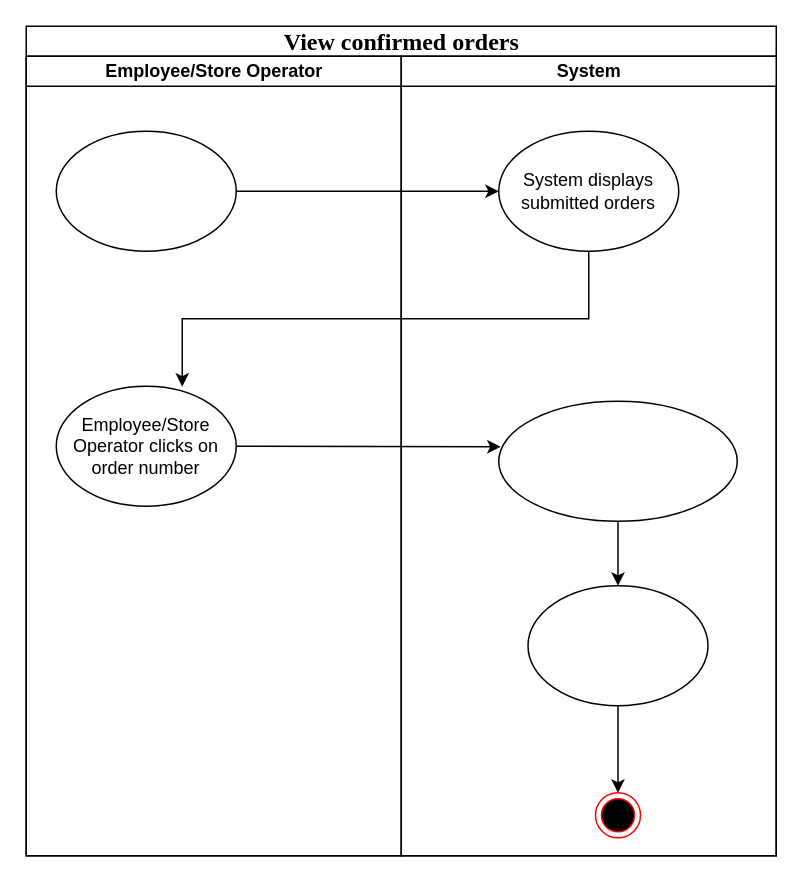
Image size: 803x882. Some labels were removed from this diagram. The shapes that lost their labels are listed below. From the top down, each one's centre as x and y in pixels, then its label:
At point (145, 190): "Cafe receives order".
At point (617, 460): "System displays order information".
At point (617, 645): "Employee prepares order".
